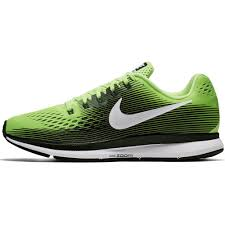nike: (107, 97, 194, 128)
